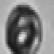correct: (6, 2, 44, 54)
